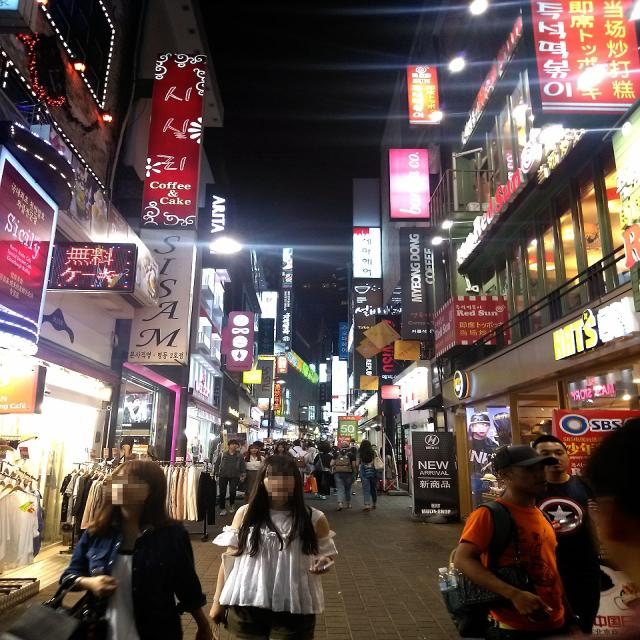body: (56, 459, 216, 639), (208, 454, 337, 640), (451, 443, 567, 640), (531, 433, 603, 635), (581, 414, 640, 592), (467, 411, 513, 513), (214, 438, 247, 516), (354, 439, 384, 512), (329, 441, 357, 511), (237, 443, 266, 505), (250, 436, 336, 452), (312, 444, 334, 501), (291, 444, 316, 487), (120, 393, 153, 423), (376, 446, 396, 494), (130, 436, 160, 460), (118, 435, 136, 467), (272, 443, 296, 461), (230, 435, 249, 455), (288, 439, 304, 456), (230, 335, 249, 349), (347, 438, 360, 456), (84, 447, 98, 459), (371, 444, 378, 451)
